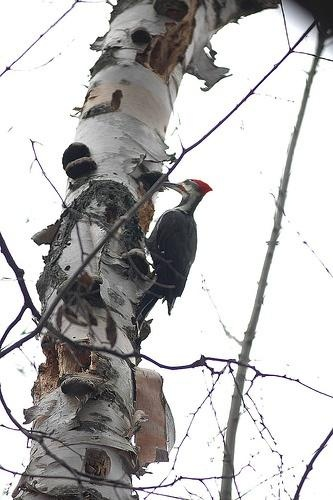bird: (149, 178, 214, 317)
